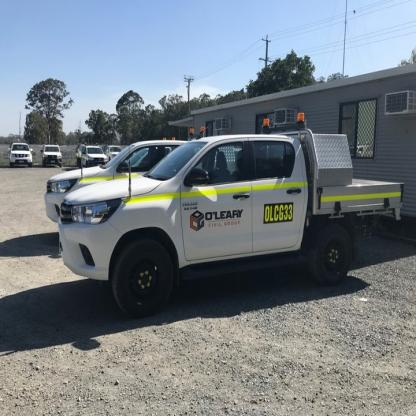light_vehicle: (54, 126, 415, 316), (9, 136, 34, 168), (39, 139, 65, 169)
